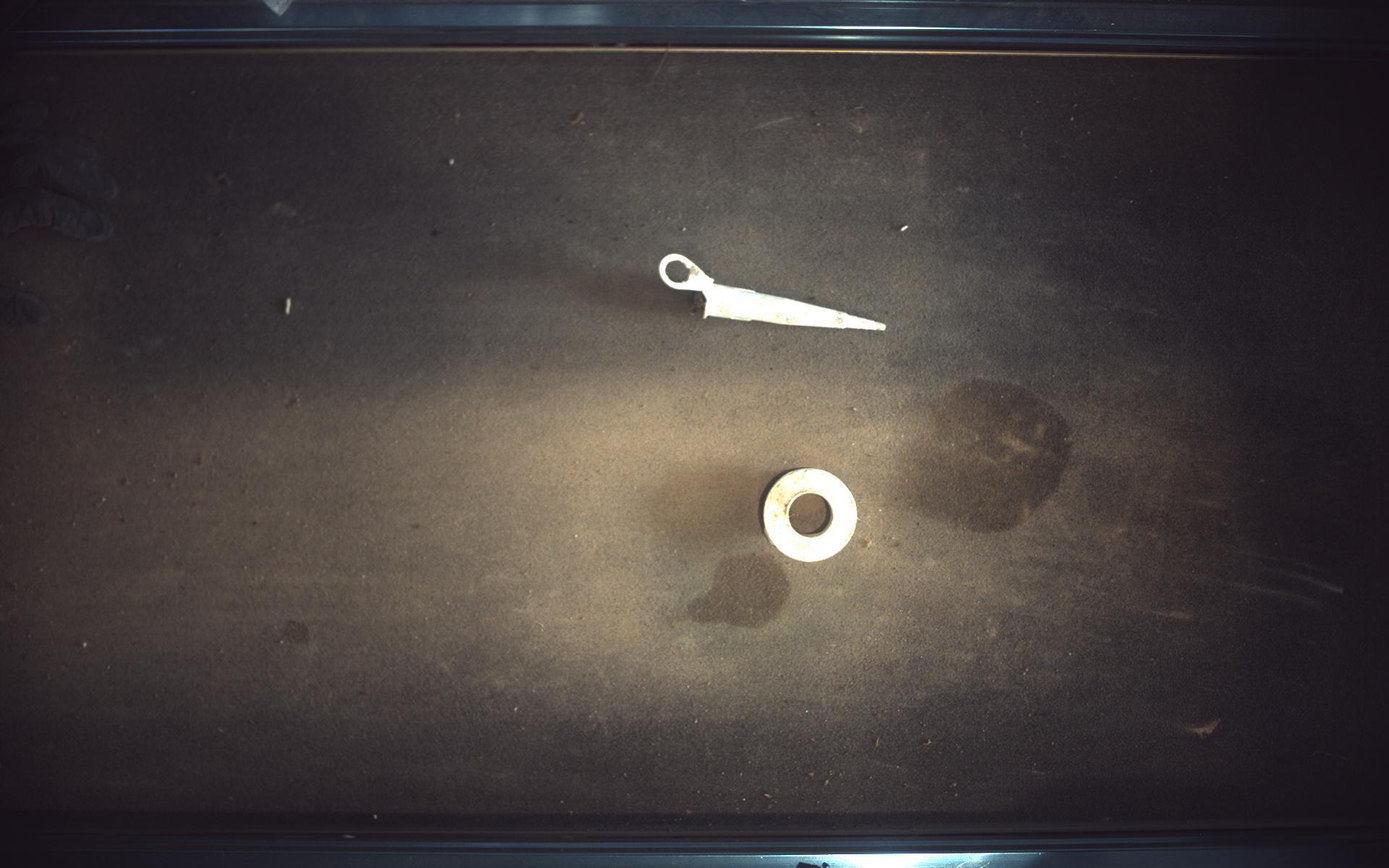plastic: (660, 253, 888, 331), (765, 469, 859, 563)
